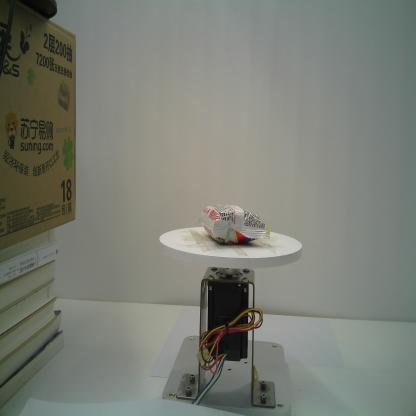Dessert: (199, 204, 271, 244)
